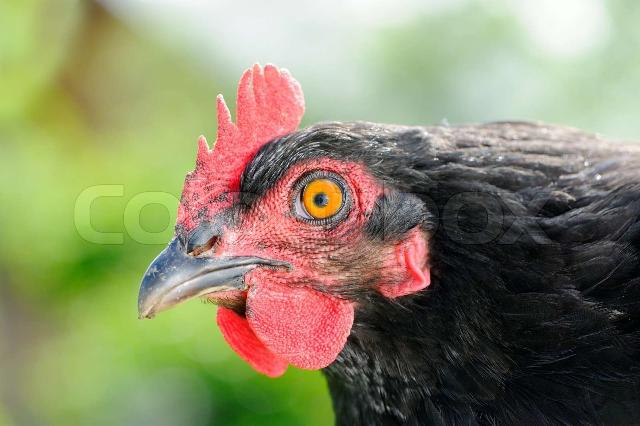Chicken: (138, 63, 640, 426)
